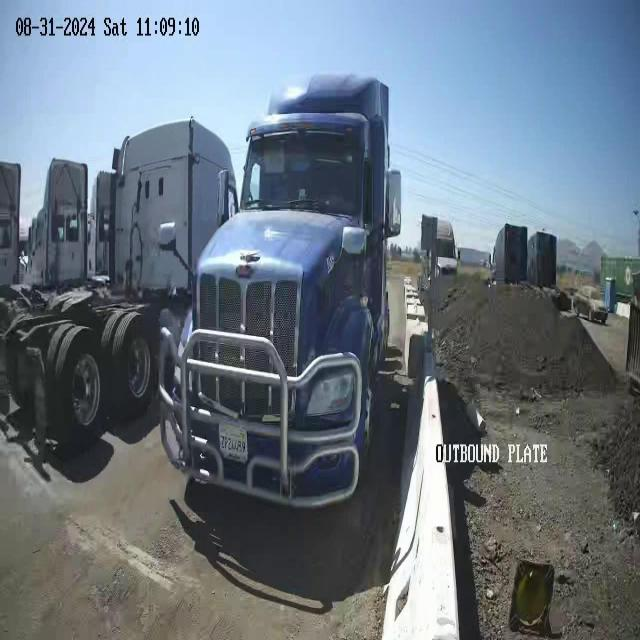TRUCK_IN: (158, 70, 402, 512)
TRUCK_OUT: (14, 121, 236, 467)
